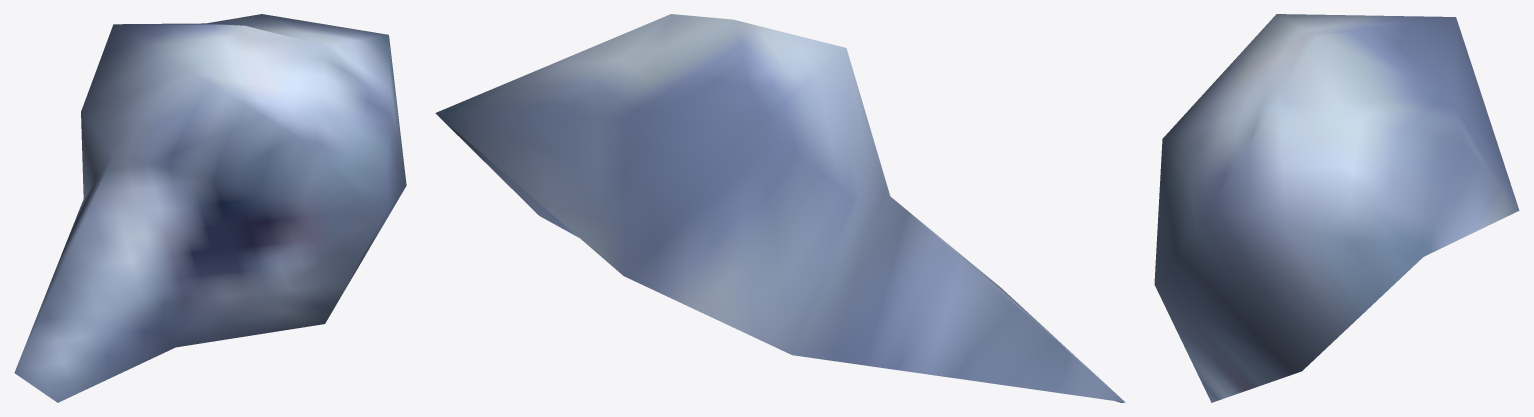
File: fg_conch_out.dae
3 renders of one model, left to right at view 1: azimuth 30°, elevation 25°; view 2: azimuth 150°, elevation 25°; view 3: azimuth 270°, elevation 25°, orthographic. The views are drawn at different scales.
Visible parts, largest first — view 1: fg_conch_out; view 2: fg_conch_out; view 3: fg_conch_out.
Part boxes in pixels (bbox=[...]): fg_conch_out: bbox=[14, 14, 406, 402]; fg_conch_out: bbox=[435, 14, 1125, 402]; fg_conch_out: bbox=[1154, 14, 1519, 402].
Size of the model in its own units: 15.1 by 8.81 by 8.47.
1 material, 1 textured.
